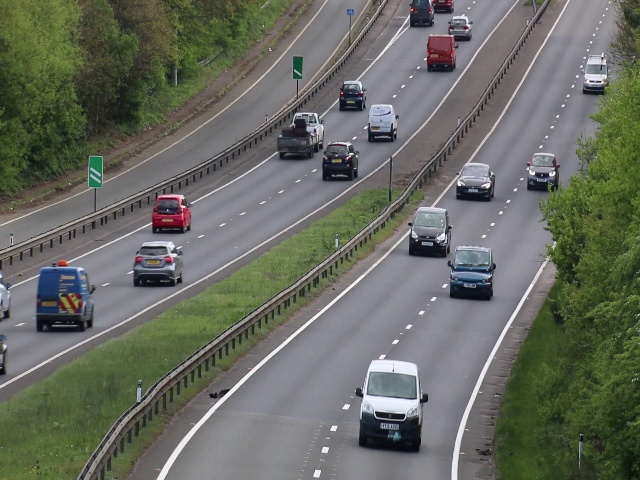car: (359, 357, 423, 455), (36, 266, 95, 333), (449, 244, 495, 303), (132, 240, 184, 287), (275, 109, 324, 158), (408, 205, 451, 256), (148, 191, 193, 232), (455, 159, 495, 203), (321, 140, 361, 182), (366, 100, 399, 142), (528, 152, 558, 193), (426, 33, 456, 72), (336, 78, 366, 111), (584, 55, 607, 94), (407, 1, 434, 26), (449, 16, 473, 40)
